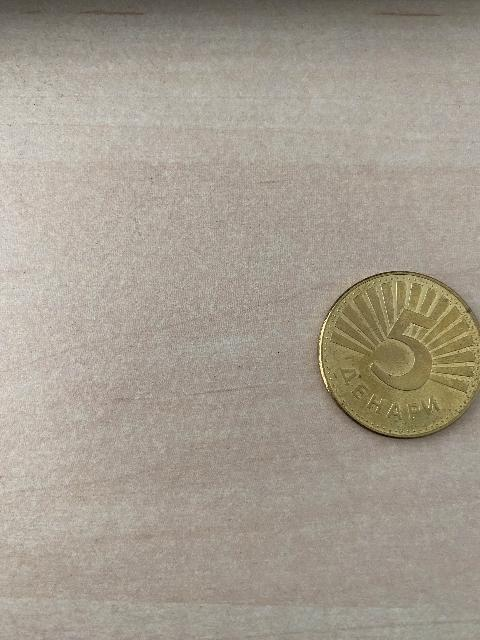5_coin: (319, 272, 479, 437)
